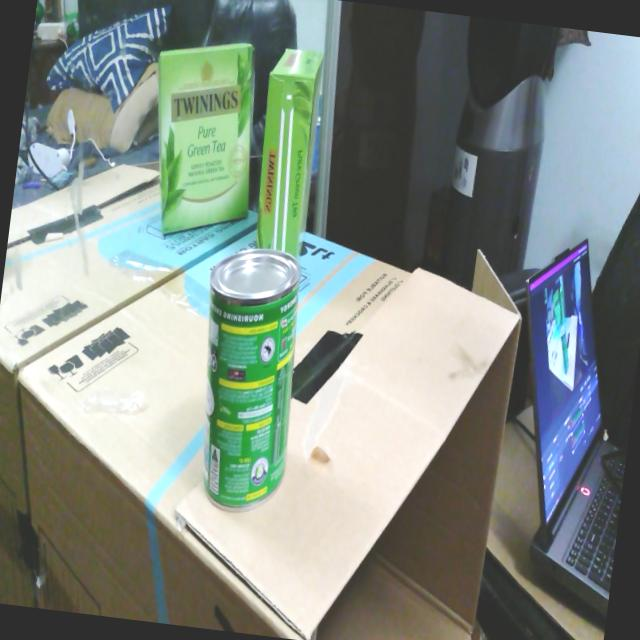nestle_milo_tin: (202, 248, 301, 510)
twinings_greentea_box: (255, 48, 323, 257)
